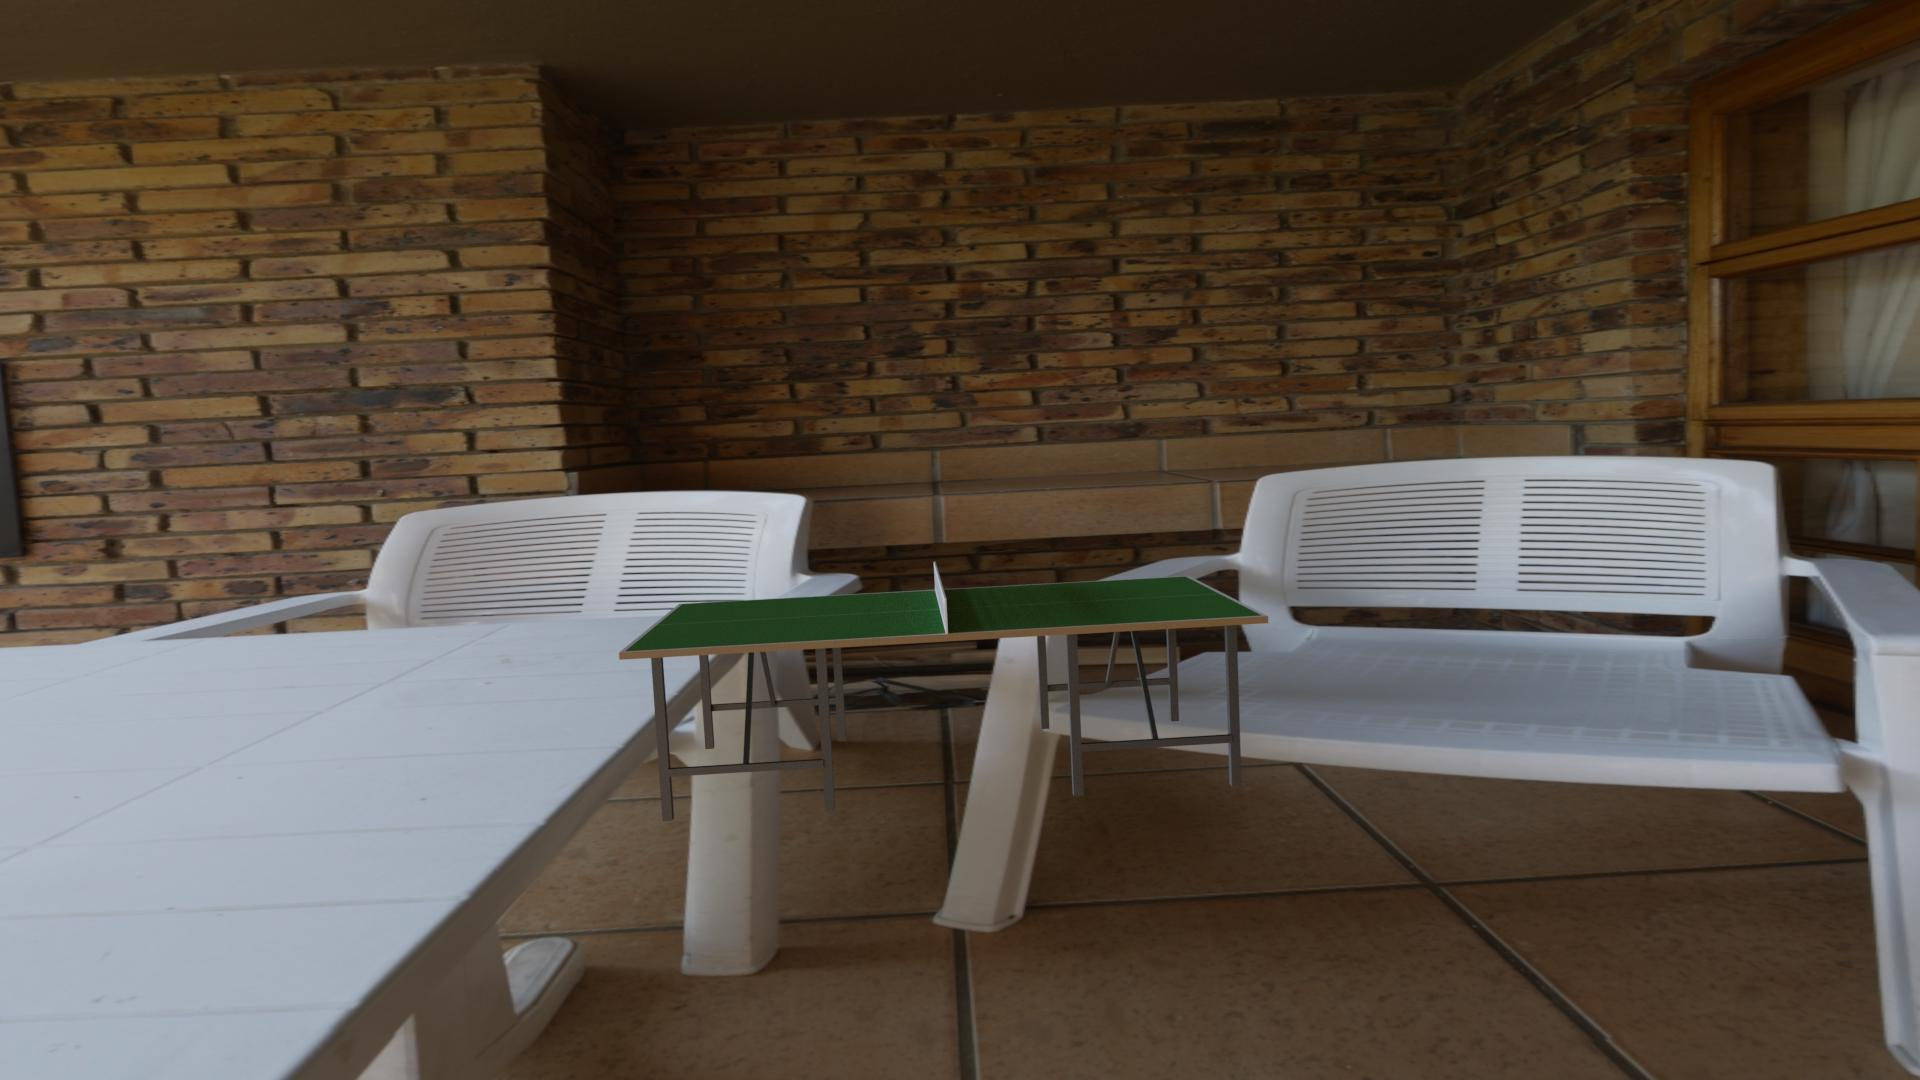table: (625, 576, 1262, 651)
